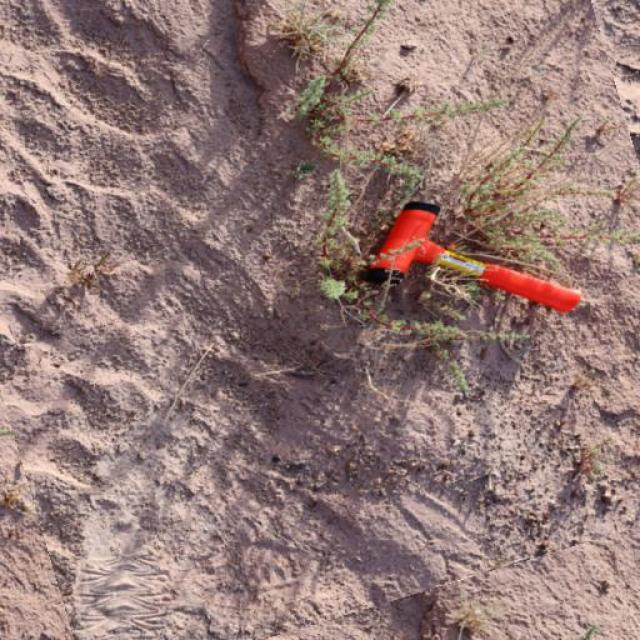mallet: (358, 198, 582, 314)
